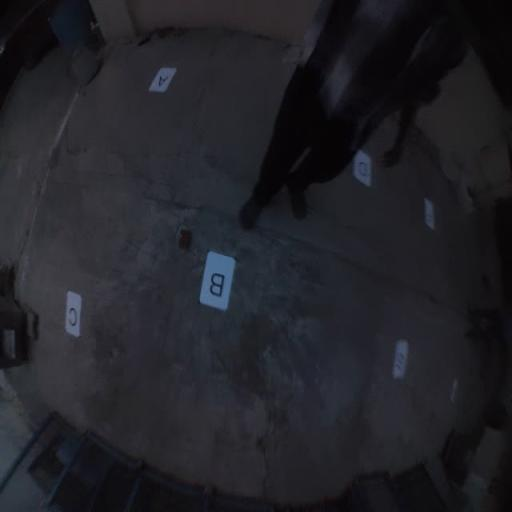A: (149, 67, 177, 93)
B: (198, 252, 236, 311)
C: (65, 291, 82, 338)
D: (352, 149, 372, 187)
